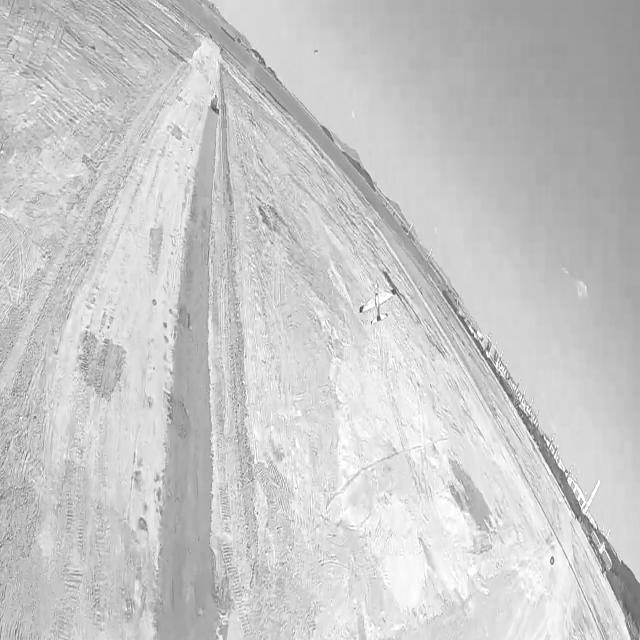iha: (388, 302, 392, 308)
